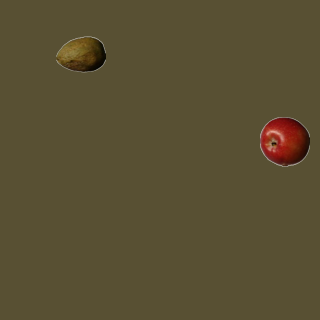Apple Braeburn: (259, 116, 309, 166)
Papaya: (55, 29, 105, 79)
